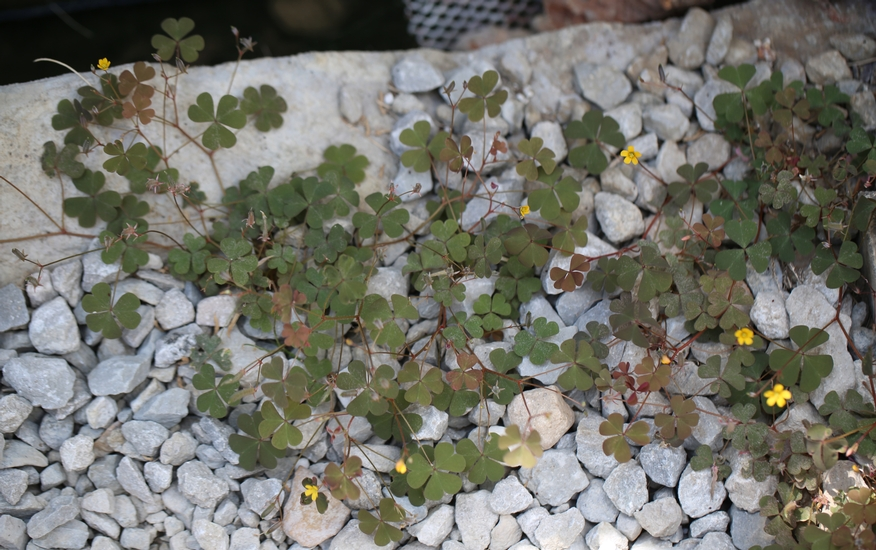oxalis: (56, 90, 547, 475), (625, 41, 876, 531)
